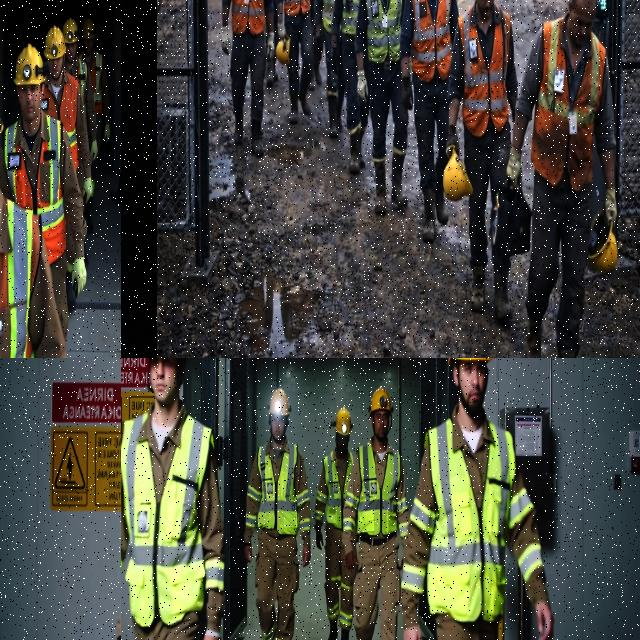Vest: (121, 413, 210, 627), (426, 419, 514, 622), (531, 17, 605, 192), (4, 116, 65, 264), (458, 4, 510, 137), (0, 201, 39, 357), (357, 443, 400, 536), (257, 444, 297, 535), (42, 72, 78, 170), (411, 0, 451, 82), (365, 0, 401, 64), (323, 452, 351, 529), (230, 0, 264, 35), (89, 50, 102, 115), (71, 57, 86, 105), (340, 0, 358, 36), (283, 0, 310, 17), (322, 0, 333, 33)
Worker: (401, 358, 552, 639), (506, 0, 616, 357), (121, 358, 223, 639), (0, 44, 85, 336), (446, 0, 517, 313), (342, 388, 408, 639), (244, 389, 309, 639), (400, 0, 457, 242), (355, 0, 407, 215), (0, 191, 65, 357), (314, 408, 353, 639), (41, 26, 91, 202), (221, 0, 274, 157), (331, 0, 367, 174), (62, 18, 98, 177), (276, 0, 312, 124), (313, 0, 344, 137), (79, 19, 110, 145), (312, 26, 323, 86), (109, 167, 120, 204), (266, 53, 277, 87), (117, 614, 120, 639)
helmet: (588, 210, 618, 274), (443, 148, 472, 201), (13, 44, 46, 85), (43, 26, 64, 59), (368, 388, 392, 415), (267, 389, 289, 416), (330, 408, 352, 435), (275, 35, 289, 65), (62, 18, 78, 44), (82, 18, 95, 40), (448, 358, 491, 363), (0, 120, 1, 132)
